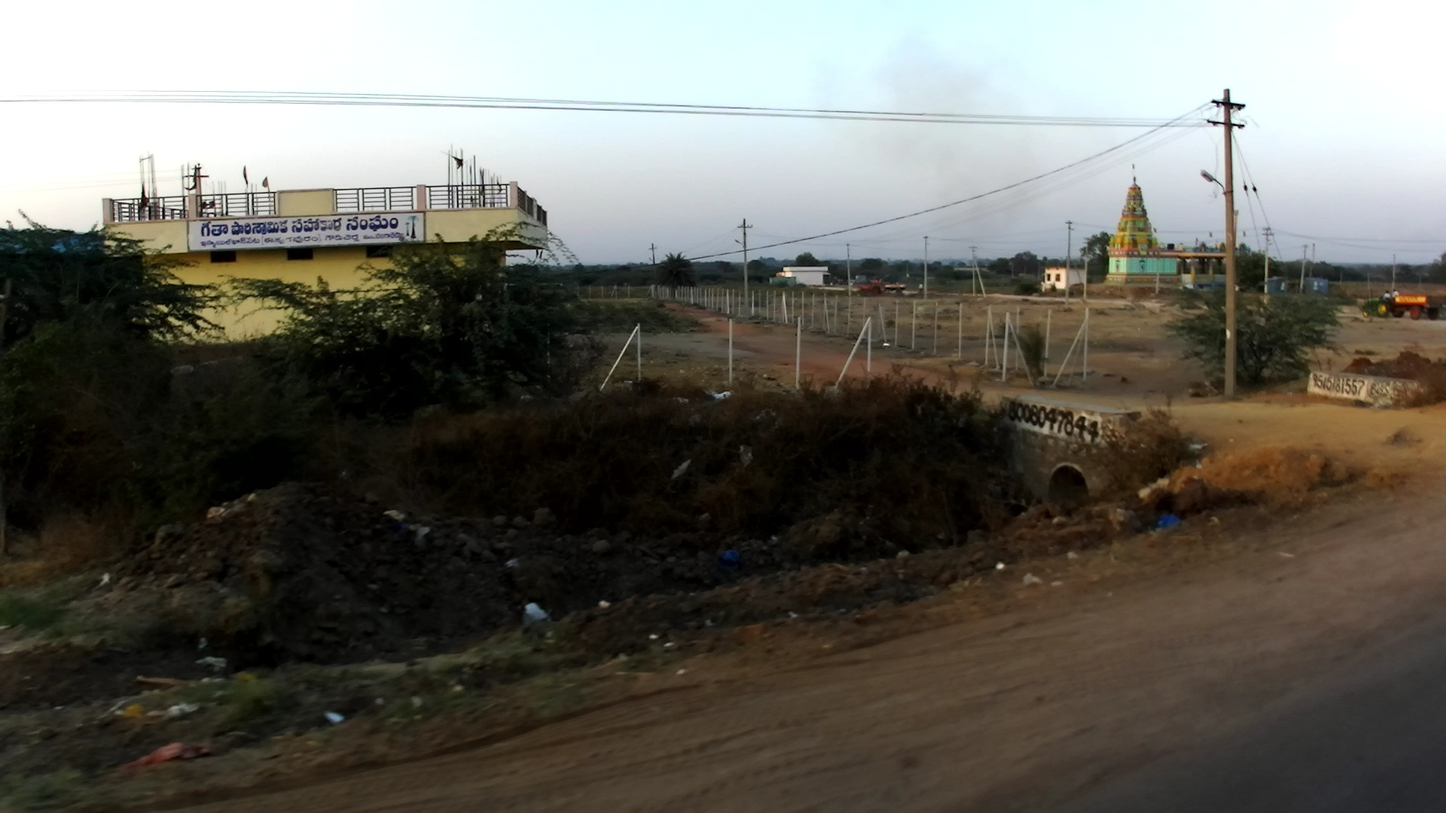person: (918, 282, 924, 293)
rider: (1382, 291, 1391, 301), (1392, 288, 1399, 300)
vehicle fallback: (1361, 288, 1446, 320), (859, 279, 907, 294)
